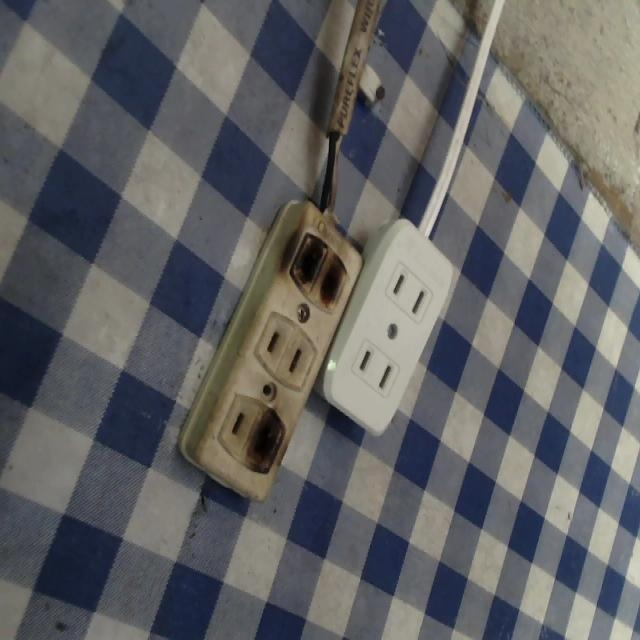-: (285, 228, 348, 313), (245, 404, 281, 476)
